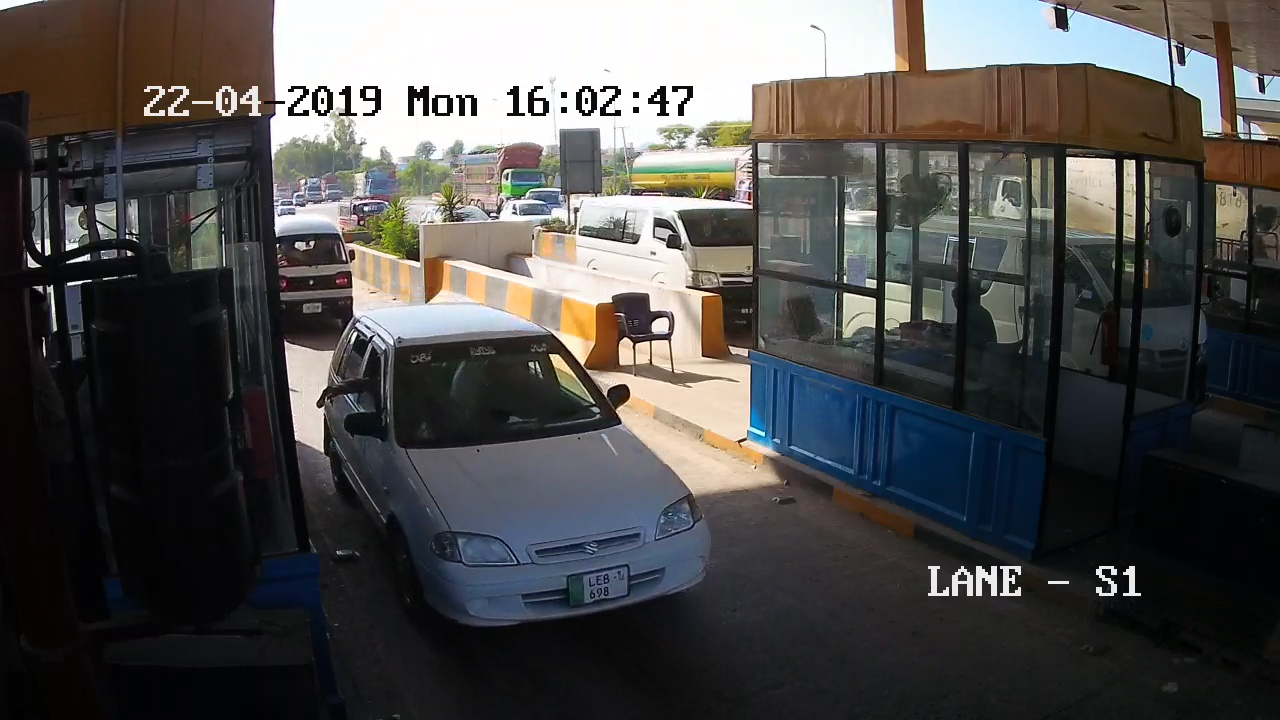car: (319, 328, 743, 644)
